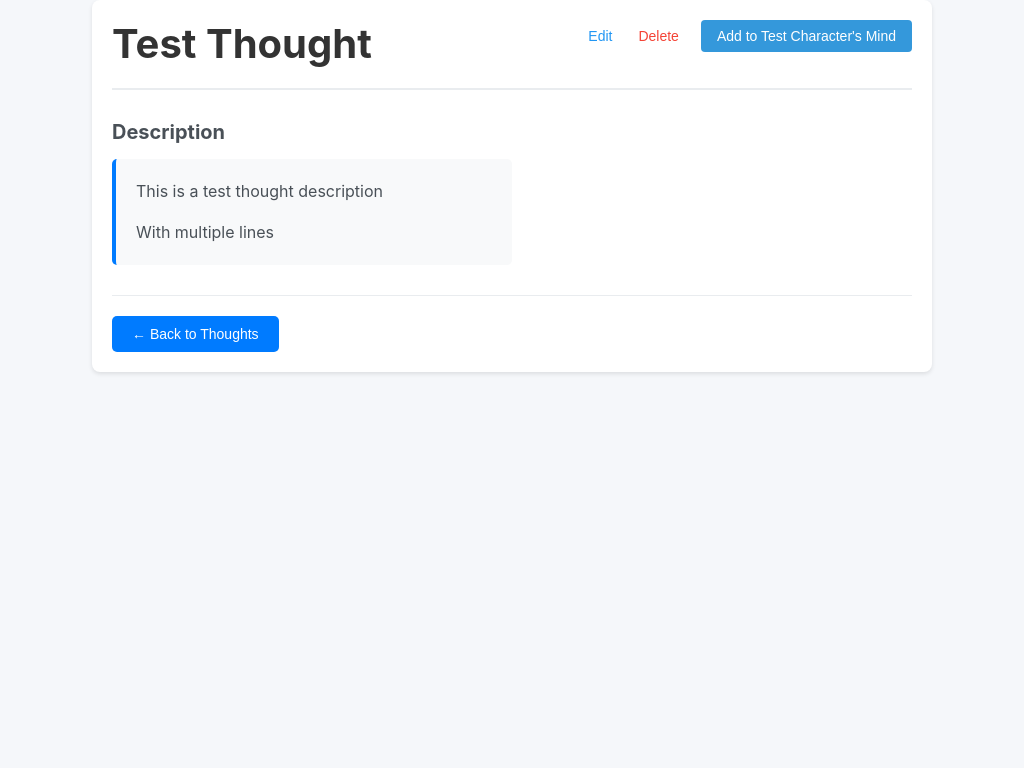
ThoughtView Component › Add to Character Mind › handles already in mind error message
Expected: the heading "Test Thought" is shown, x1=112 y1=20 x2=372 y2=68
Click the button "Add to Test Character's Mind" at x=806, y=36, box x1=701 y1=20 x2=912 y2=52
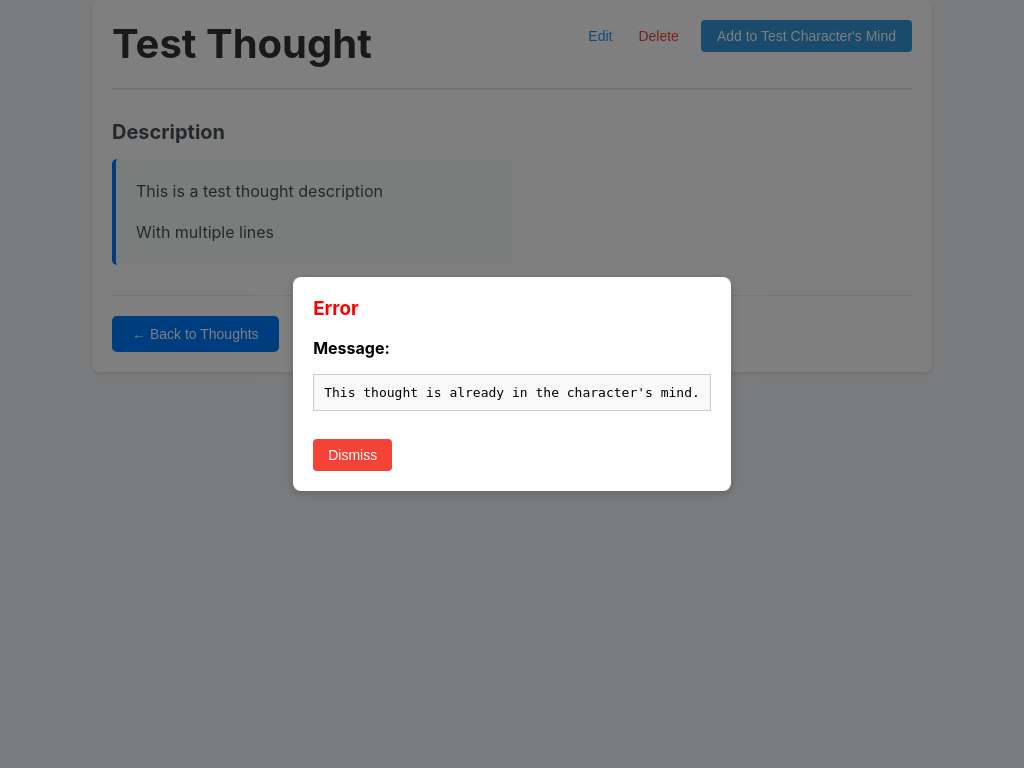
Now the text "This thought is already in the character's mind." is shown, box x1=313 y1=374 x2=711 y2=411
